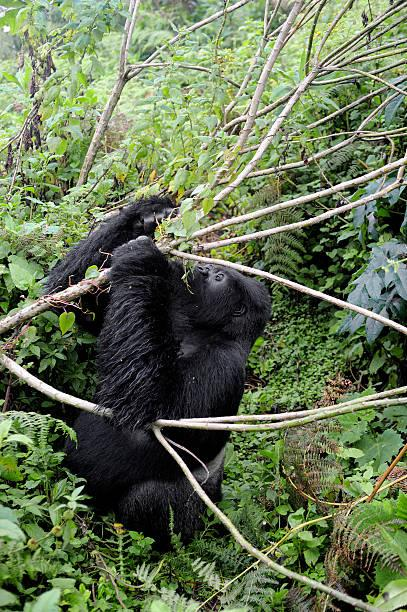goriile_montagne: (50, 209, 284, 513)
